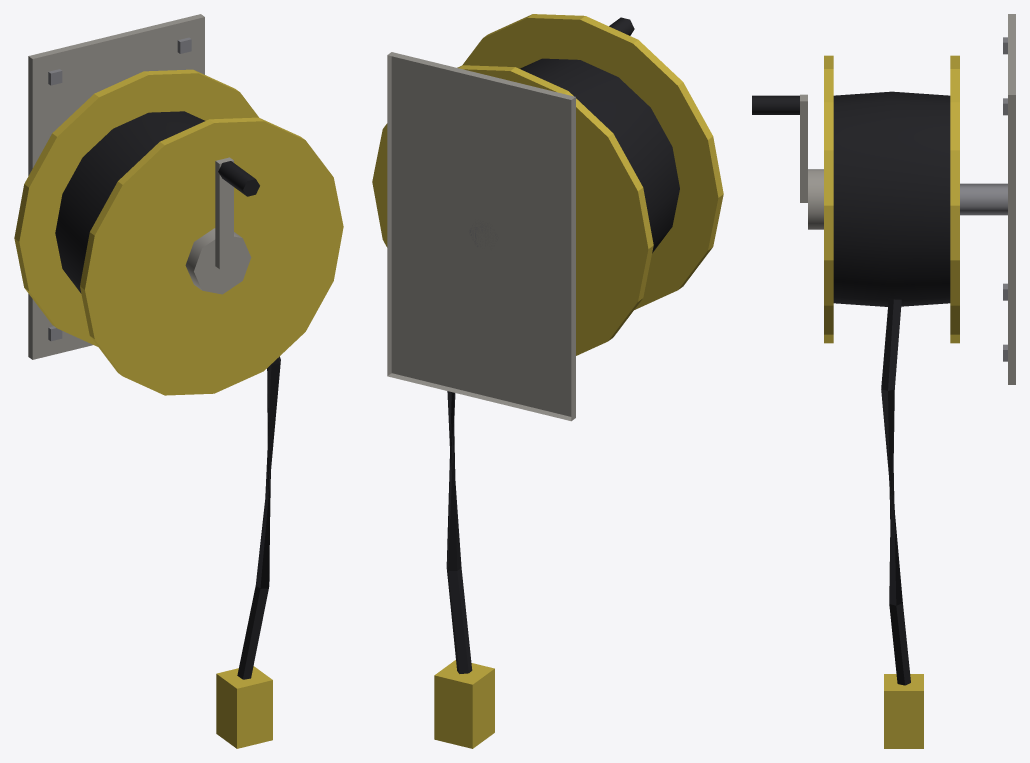
File: cable_reel.glb
The picture shows the model from 3 angles, left to right: view 1: azimuth 30°, elevation 25°; view 2: azimuth 150°, elevation 25°; view 3: azimuth 270°, elevation 25°; orthographic projection. The views are drawn at different scales.
Parts seen in each view (by area): view 1: cable_reel; view 2: cable_reel; view 3: cable_reel.
Boxes of the visible parts, box(x1,y1,x2,y2) form: cable_reel: box(14, 14, 343, 748); cable_reel: box(372, 14, 723, 748); cable_reel: box(752, 14, 1015, 748).
Size of the model in its own units: 0.36 by 0.9 by 0.33.
